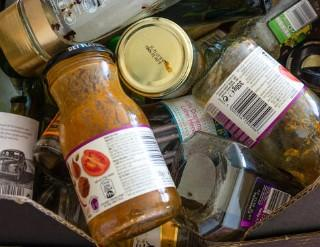glass: (45, 43, 180, 247), (191, 25, 318, 186), (1, 1, 196, 78), (170, 131, 302, 243), (124, 94, 217, 186), (201, 1, 317, 74), (115, 16, 205, 100), (33, 109, 66, 180)
